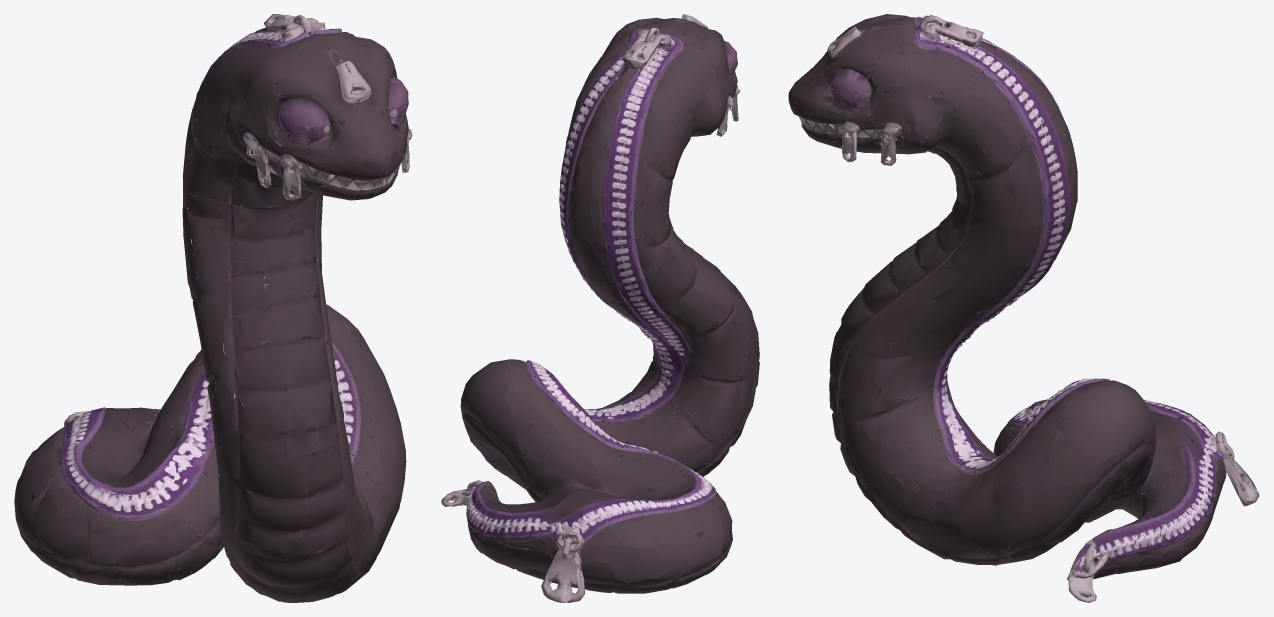
The picture shows the model from 3 angles, left to right: view 1: azimuth 30°, elevation 25°; view 2: azimuth 150°, elevation 25°; view 3: azimuth 270°, elevation 25°; orthographic projection. The views are drawn at different scales.
Parts seen in each view (by area): view 1: Mesh_0; view 2: Mesh_0; view 3: Mesh_0.
Boxes of the visible parts, bbox=[...] form: Mesh_0: bbox=[14, 14, 412, 602]; Mesh_0: bbox=[441, 14, 759, 602]; Mesh_0: bbox=[788, 14, 1259, 602].
Size of the model in its own units: 1.22 by 1.9 by 1.57.
Materials: 1 (1 with a texture image).
